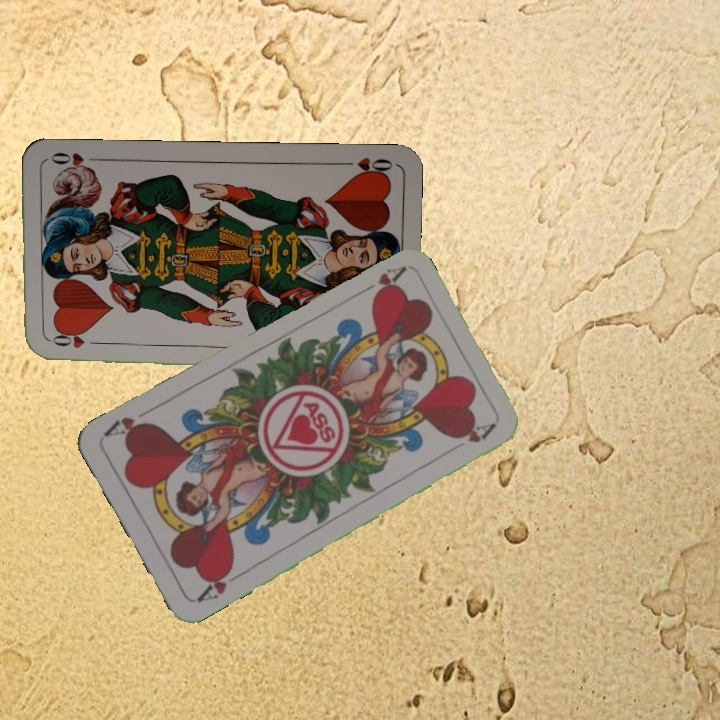HA: (192, 563, 246, 605), (353, 262, 408, 300)
HO: (337, 153, 395, 178), (44, 332, 103, 351)
